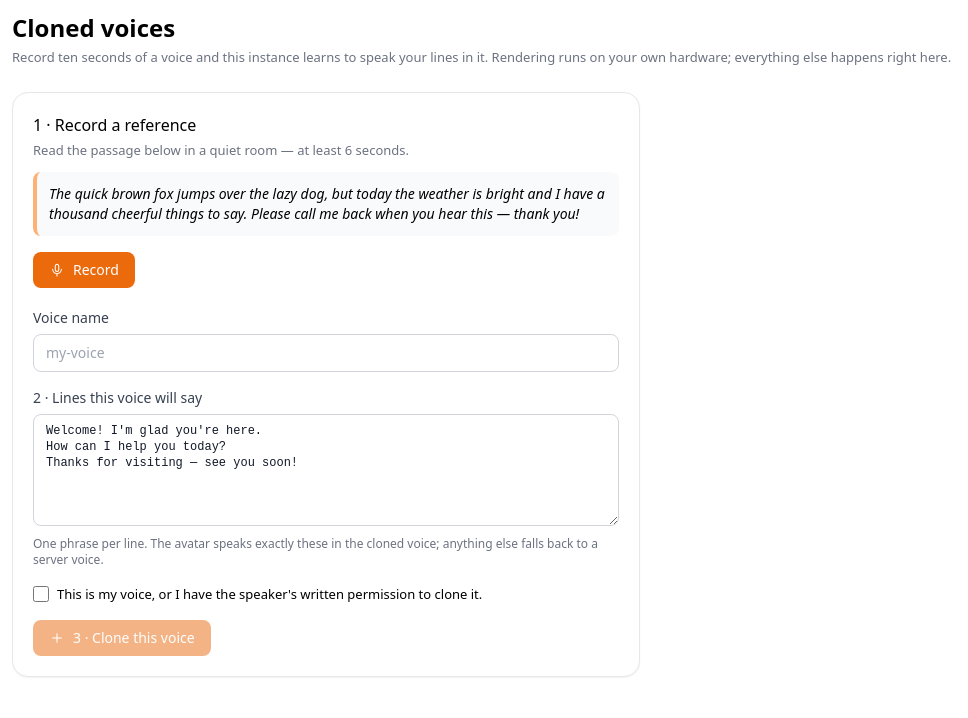
VoicesPage › a refused microphone is said
Click the button "Record" at (84, 270), box [33,252,135,288]
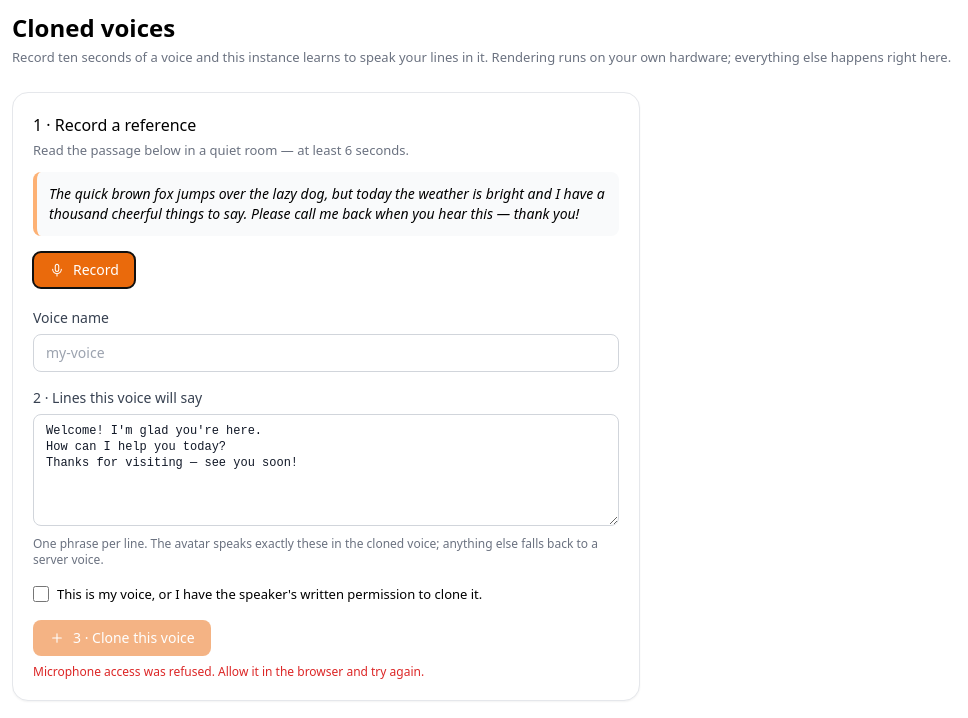
Now the text "Microphone access was refused. Allow it in the browser and try again." is shown, box [33,663,424,680]
